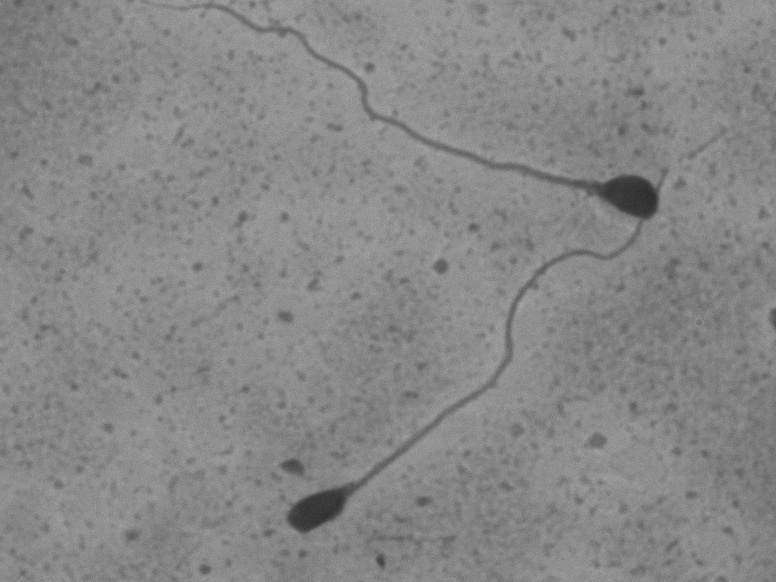Abnormal: (278, 217, 659, 551), (188, 2, 666, 223)
